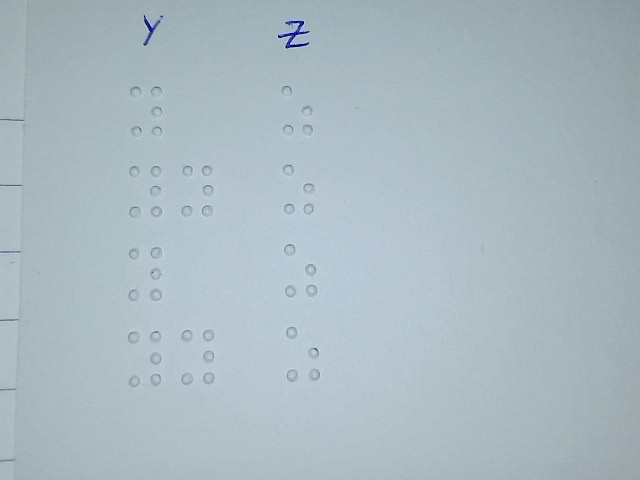Y: (180, 326, 215, 386), (127, 328, 162, 388), (129, 84, 163, 138), (180, 162, 214, 216)
Z: (285, 325, 321, 381), (283, 242, 318, 298), (280, 83, 314, 137), (282, 161, 316, 215)
